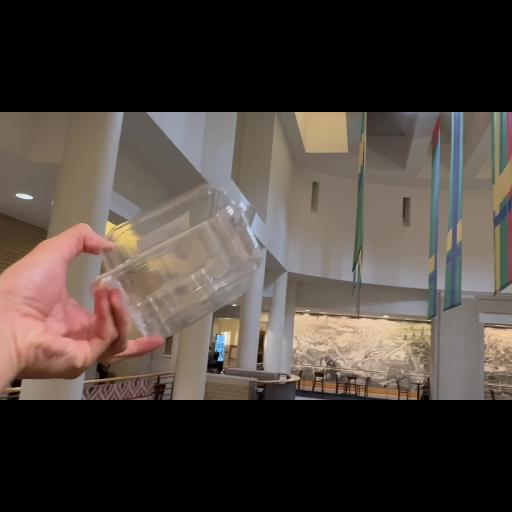small_plastic_container: (90, 184, 266, 342)
